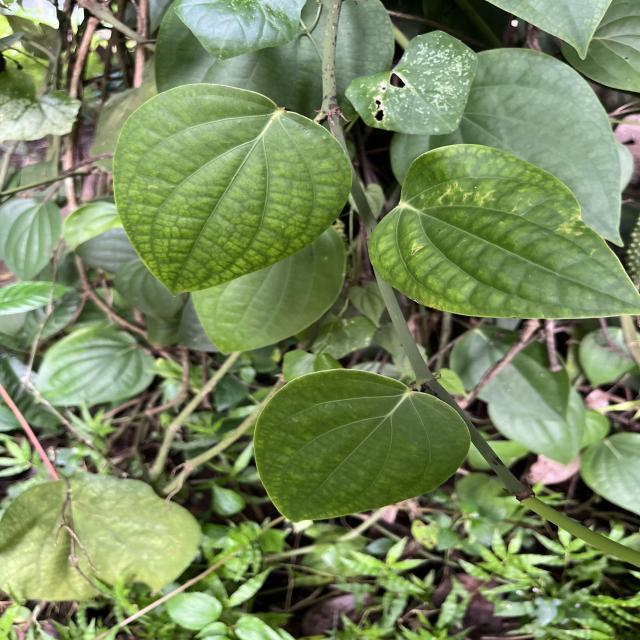Piper nigrum: (112, 80, 356, 299), (367, 142, 640, 320), (251, 367, 474, 525)
